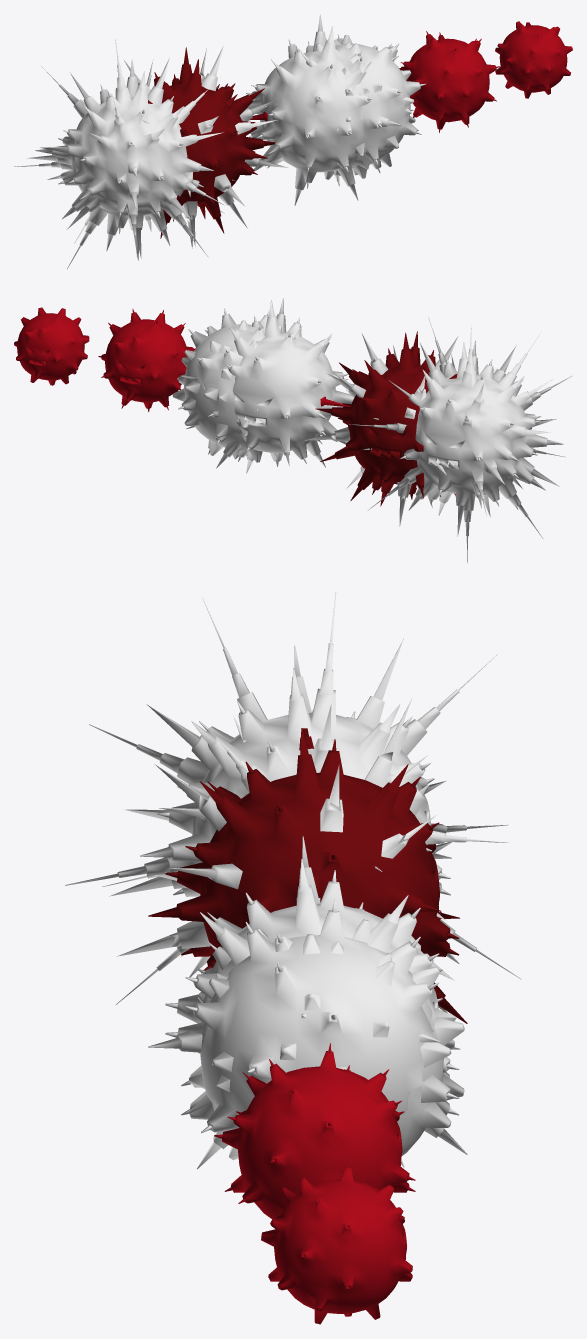
File: babyVirus.fbx
3 views of the same model, one above another, from view 1: azimuth 30°, elevation 25°; view 2: azimuth 150°, elevation 25°; view 3: azimuth 270°, elevation 25° (orthographic). The views are drawn at different scales.
Parts seen in each view (by area): view 1: adult, Virus.005, Virus.004, child, Virus, baby, Virus.007, cube3, Cube.002; view 2: adult, Virus.005, Virus.004, child, baby, Virus, Cube.002, cube3, Virus.007; view 3: Virus.004, Virus, adult, child, baby, Virus.005, cube3, Virus.007, Cube.002.
Part boxes in pixels (x1,y1,x2,y2): adult: [14, 39, 234, 268]; Virus.005: [246, 14, 413, 205]; Virus.004: [148, 47, 275, 238]; child: [399, 31, 499, 132]; Virus: [326, 34, 425, 181]; baby: [495, 21, 572, 98]; Virus.007: [124, 46, 288, 248]; cube3: [313, 35, 415, 179]; Cube.002: [334, 39, 411, 169]; adult: [346, 317, 572, 563]; Virus.005: [181, 298, 353, 473]; Virus.004: [315, 331, 457, 506]; child: [98, 308, 195, 411]; baby: [14, 307, 89, 385]; Virus: [177, 308, 301, 459]; Cube.002: [186, 329, 249, 459]; cube3: [172, 320, 281, 462]; Virus.007: [304, 333, 495, 526]; Virus.004: [148, 728, 467, 1023]; Virus: [165, 899, 459, 1193]; adult: [65, 592, 521, 1004]; child: [214, 1043, 415, 1218]; baby: [261, 1167, 412, 1324]; Virus.005: [148, 836, 467, 1169]; cube3: [189, 919, 464, 1160]; Virus.007: [119, 701, 453, 1012]; Cube.002: [216, 941, 456, 1155].
Bounding box in the file's own units: 820 × 320 × 305.
